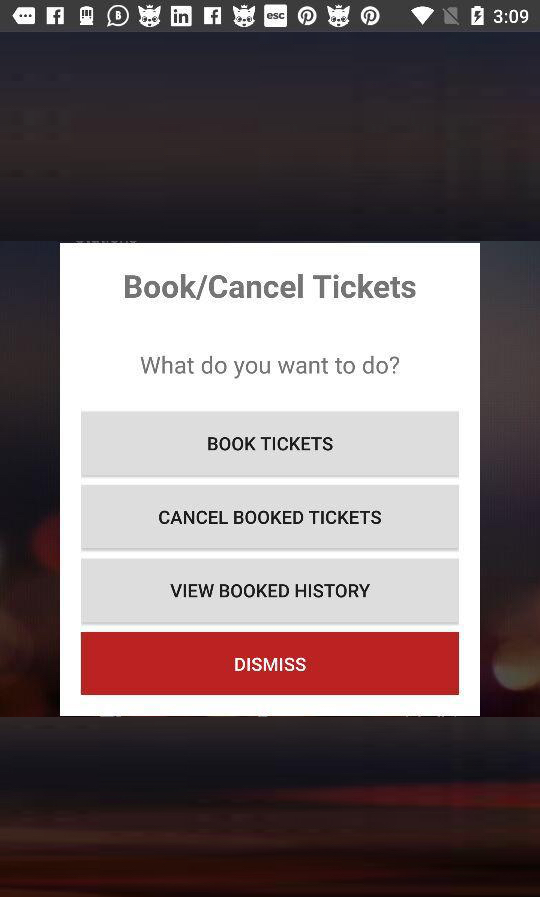Modal: (60, 244, 480, 716)
Text: (125, 274, 416, 301), (141, 356, 400, 380)
TextButton: (82, 558, 459, 626), (81, 485, 459, 552), (82, 412, 459, 479), (82, 632, 460, 695)
UpperTaskBar: (1, 1, 540, 33)
